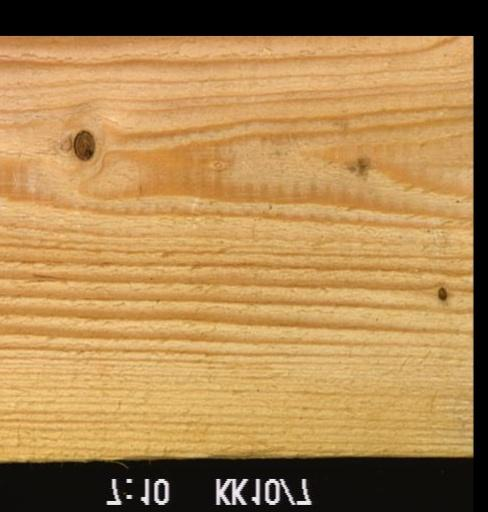dry_knot: (70, 128, 95, 161), (435, 284, 446, 302)
